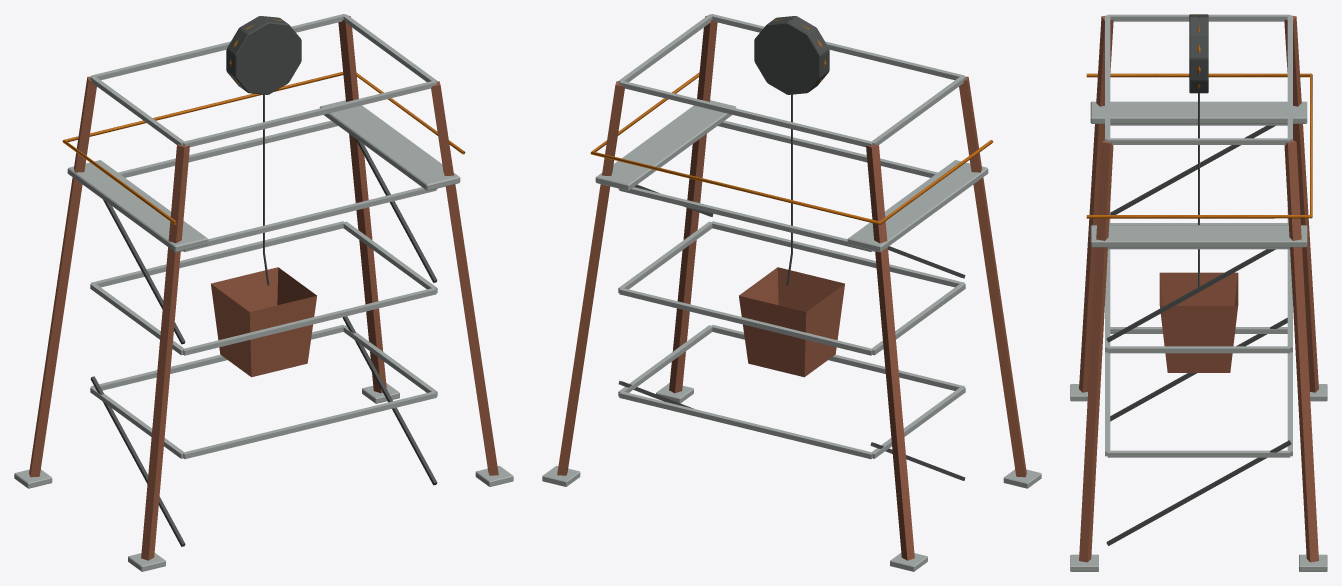
Rendered from quarry-gantry-lod-packed.glb.
The picture shows the model from 3 angles, left to right: view 1: azimuth 30°, elevation 25°; view 2: azimuth 150°, elevation 25°; view 3: azimuth 270°, elevation 25°; orthographic projection.
Visible parts, largest first — view 1: 03 dusted galvanized steel • merged manufactured assembly, 02 weathered red oxide structural steel • merged manufacture, 04 oiled machinery / shadow steel • merged manufactured asse, 01 quarry safety ochre / chipped enamel • merged manufacture; view 2: 03 dusted galvanized steel • merged manufactured assembly, 02 weathered red oxide structural steel • merged manufacture, 04 oiled machinery / shadow steel • merged manufactured asse, 01 quarry safety ochre / chipped enamel • merged manufacture; view 3: 02 weathered red oxide structural steel • merged manufacture, 03 dusted galvanized steel • merged manufactured assembly, 04 oiled machinery / shadow steel • merged manufactured asse, 01 quarry safety ochre / chipped enamel • merged manufacture.
Part boxes in pixels (x1,y1,x2,y2): 03 dusted galvanized steel • merged manufactured assembly: (14,14,513,571); 02 weathered red oxide structural steel • merged manufacture: (29,14,498,560); 04 oiled machinery / shadow steel • merged manufactured asse: (90,16,437,546); 01 quarry safety ochre / chipped enamel • merged manufacture: (62,19,465,224); 03 dusted galvanized steel • merged manufactured assembly: (542,14,1041,571); 02 weathered red oxide structural steel • merged manufacture: (557,14,1026,560); 04 oiled machinery / shadow steel • merged manufactured asse: (618,16,965,480); 01 quarry safety ochre / chipped enamel • merged manufacture: (590,19,993,224); 02 weathered red oxide structural steel • merged manufacture: (1079,15,1318,562); 03 dusted galvanized steel • merged manufactured assembly: (1070,14,1327,571); 04 oiled machinery / shadow steel • merged manufactured asse: (1106,14,1291,545); 01 quarry safety ochre / chipped enamel • merged manufacture: (1086,14,1312,218).
Bounding box in the file's own units: 16.56 × 19.71 × 9.85.
4 materials, 1 textured.
